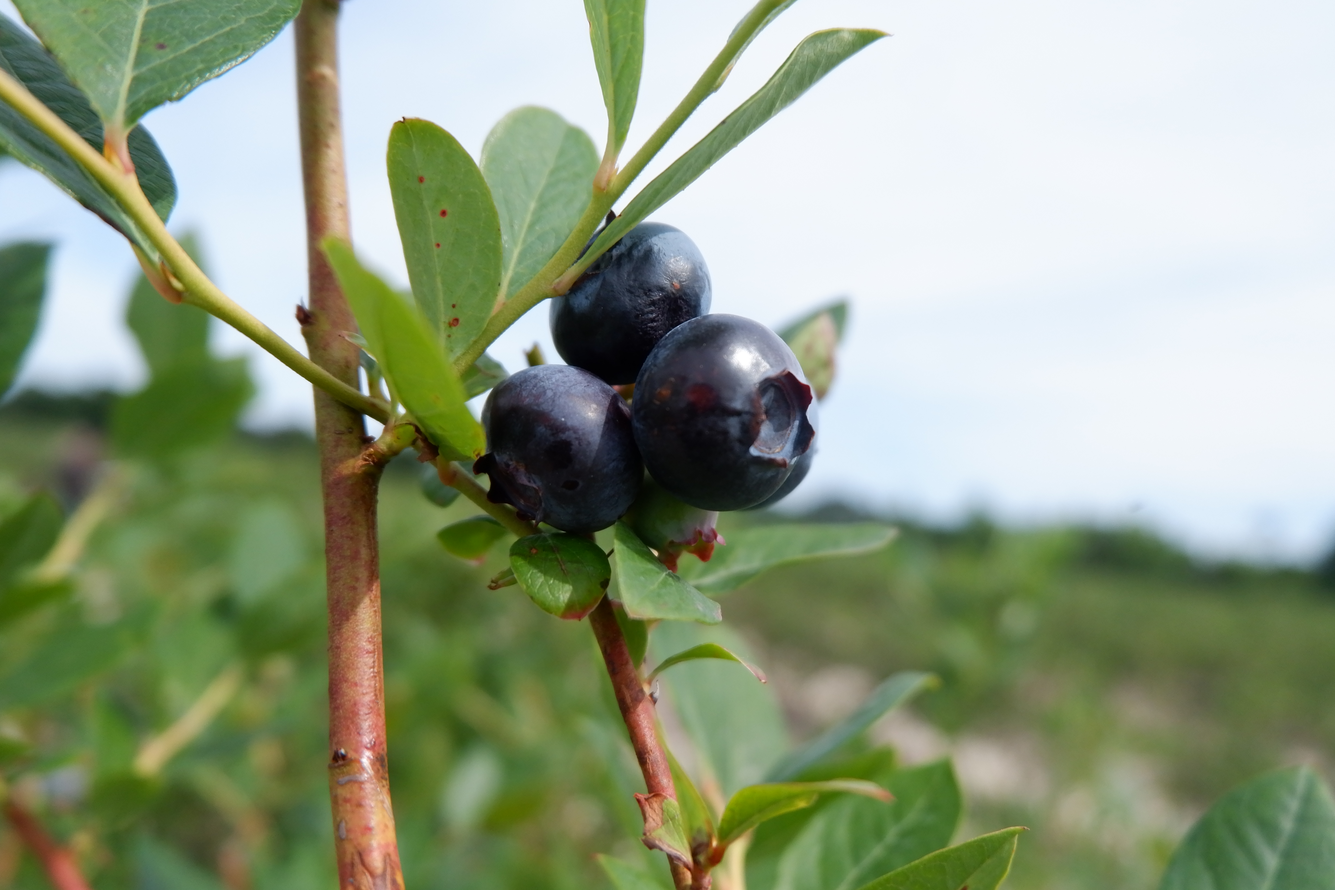Immature: (628, 480, 722, 568)
Mature: (635, 319, 811, 505), (482, 368, 639, 532), (556, 228, 711, 384)
